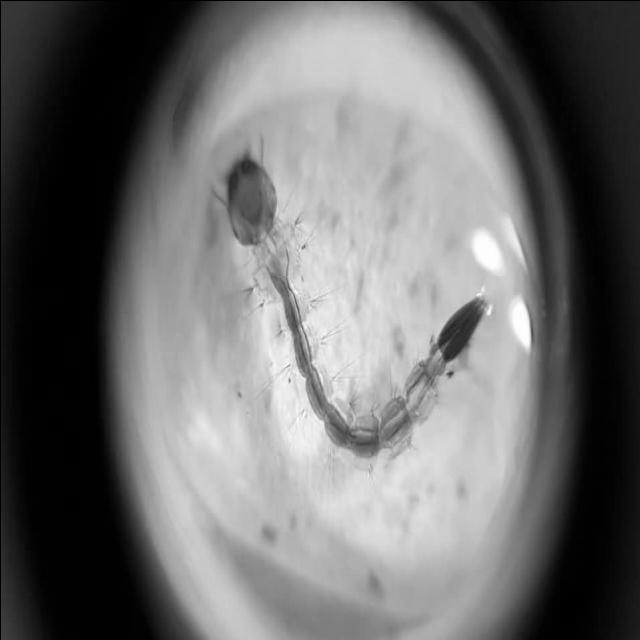larvas: (232, 143, 490, 460)
